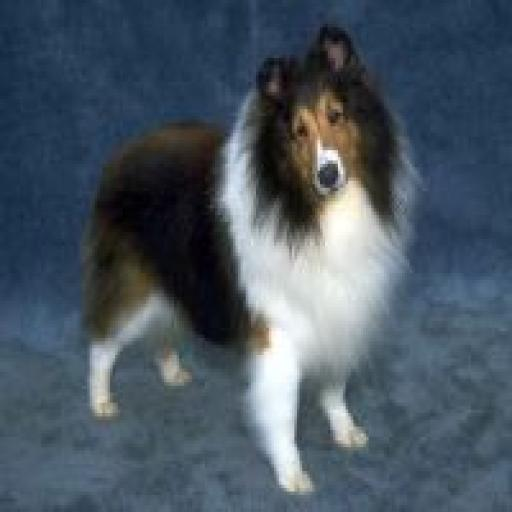dog_face: (258, 24, 364, 205)
